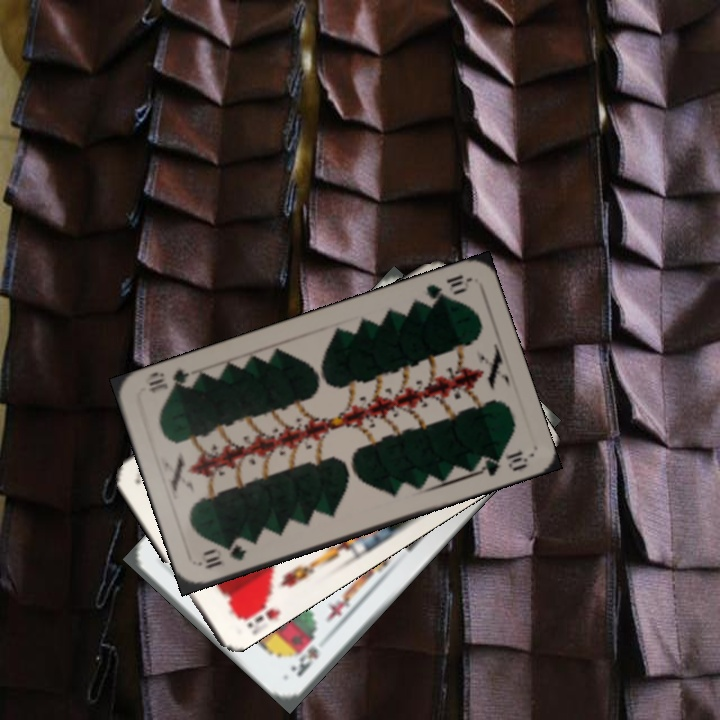G10: (415, 270, 472, 308), (200, 539, 250, 572)
HK: (232, 589, 277, 634)
SK: (286, 641, 322, 680)
